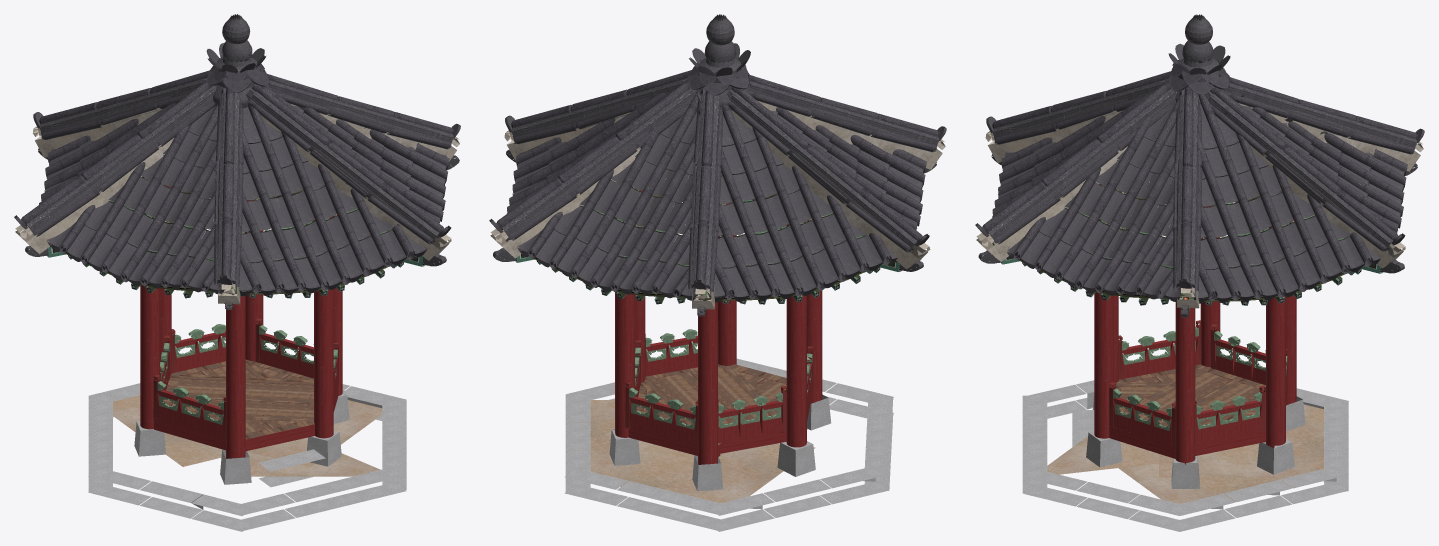
File: miro.glb
The picture shows the model from 3 angles, left to right: view 1: azimuth 30°, elevation 25°; view 2: azimuth 150°, elevation 25°; view 3: azimuth 270°, elevation 25°; orthographic projection. The views are drawn at different scales.
Parts seen in each view (by area): view 1: SM_Mirohanjeong, SM_Mirohanjeong_MI_R_Roof1_0.001, SM_Mirohanjeong_MI_R_Roof1_0.002; view 2: SM_Mirohanjeong, SM_Mirohanjeong_MI_R_Roof1_0.001, SM_Mirohanjeong_MI_R_Roof1_0.002; view 3: SM_Mirohanjeong, SM_Mirohanjeong_MI_R_Roof1_0.001, SM_Mirohanjeong_MI_R_Roof1_0.002.
Boxes of the visible parts, x1,y1,x2,y2 form: SM_Mirohanjeong: (15,40,459,531); SM_Mirohanjeong_MI_R_Roof1_0.001: (21,56,454,291); SM_Mirohanjeong_MI_R_Roof1_0.002: (14,14,460,309); SM_Mirohanjeong: (490,41,945,531); SM_Mirohanjeong_MI_R_Roof1_0.001: (496,59,939,297); SM_Mirohanjeong_MI_R_Roof1_0.002: (489,14,946,316); SM_Mirohanjeong: (976,40,1423,531); SM_Mirohanjeong_MI_R_Roof1_0.001: (982,60,1417,299); SM_Mirohanjeong_MI_R_Roof1_0.002: (975,14,1424,312).
Size of the model in its own units: 8.51 by 8.19 by 7.63.
14 materials, 14 textured.
